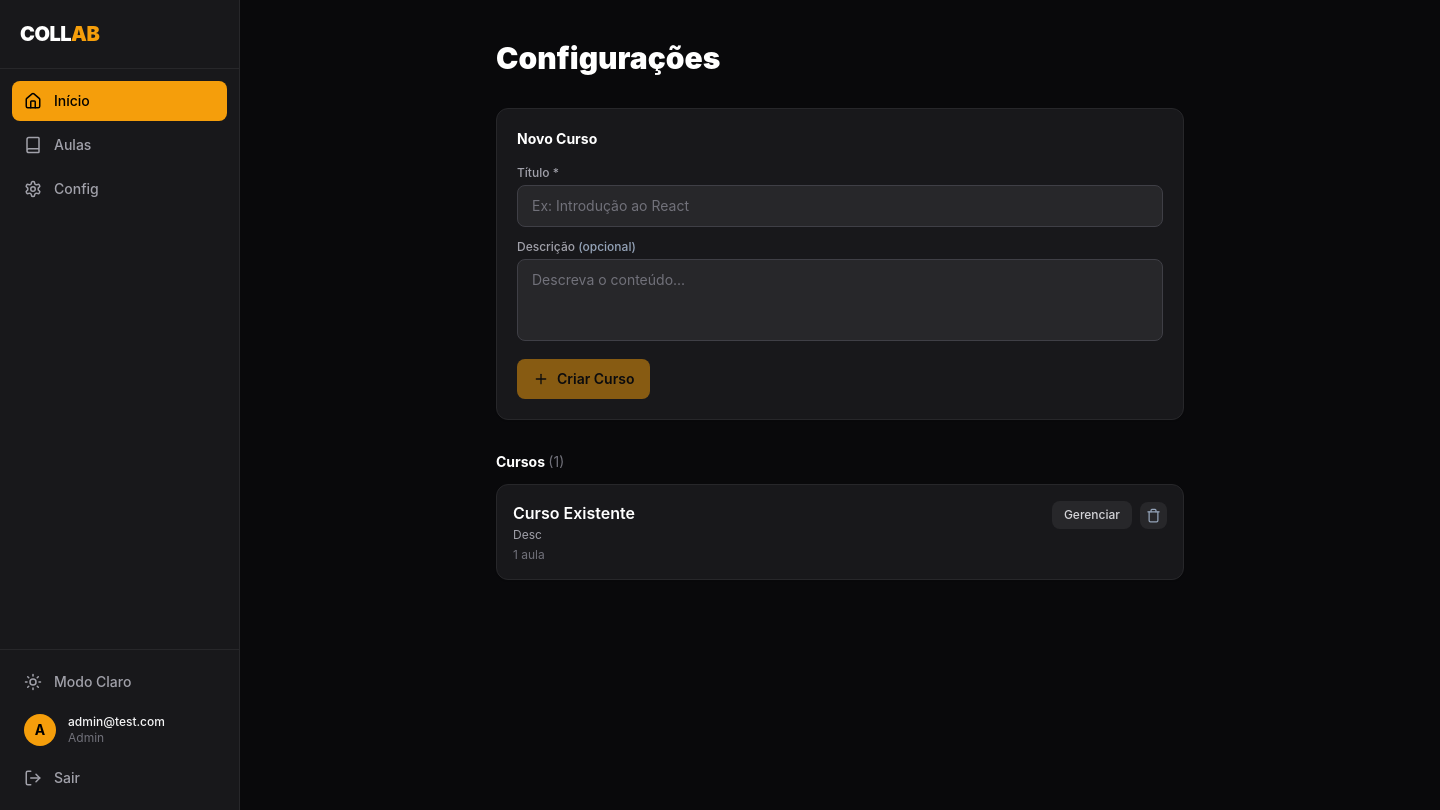
Test case: ConfigPage › deletes a lesson after confirm
Step 1. Click the button "Gerenciar" → (1092, 515), box x1=1052 y1=501 x2=1132 y2=529
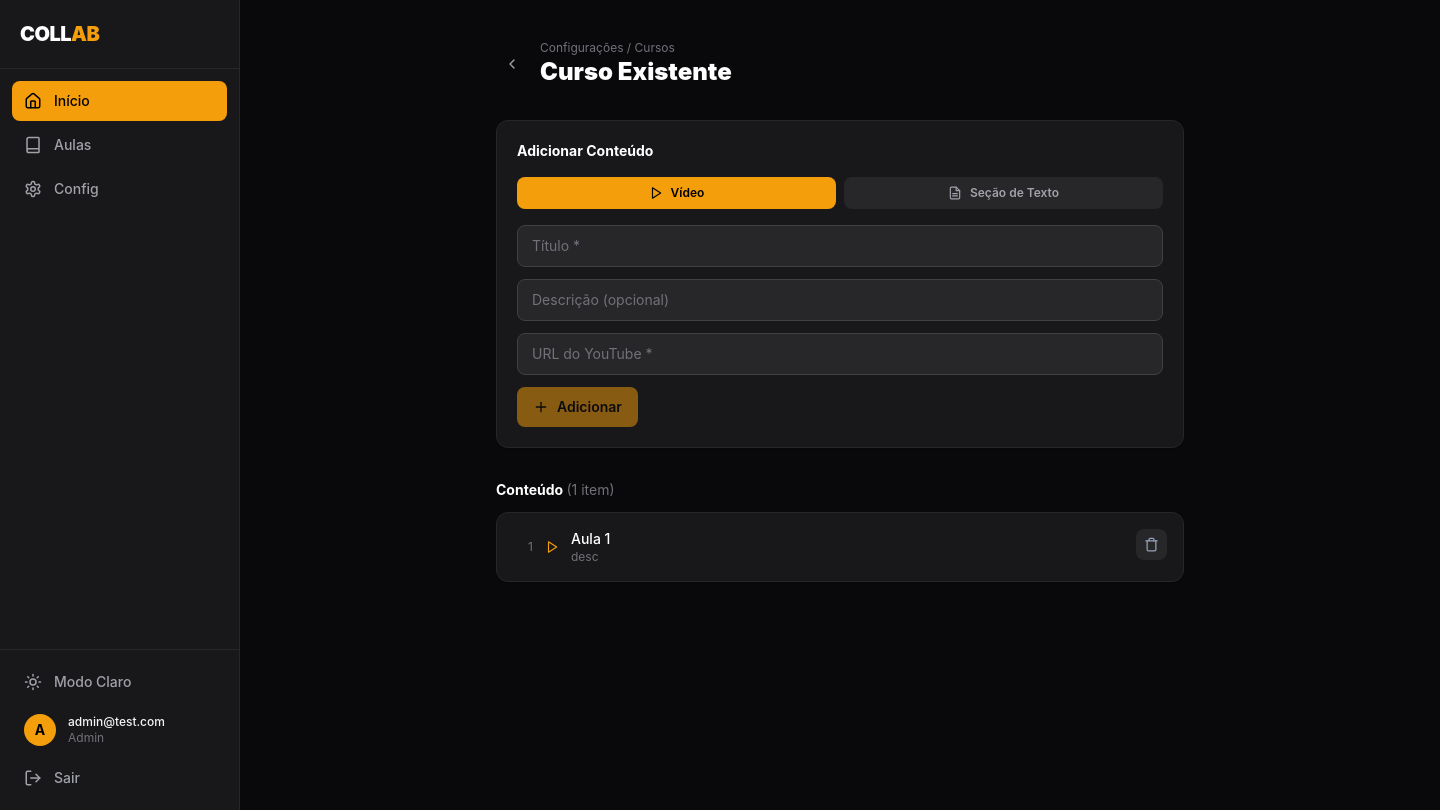
Now the text "Aula 1" is shown, box x1=571 y1=529 x2=610 y2=549
Step 2. Click the button with test id "delete-lesson-l1" → (1152, 544), box x1=1136 y1=529 x2=1167 y2=560
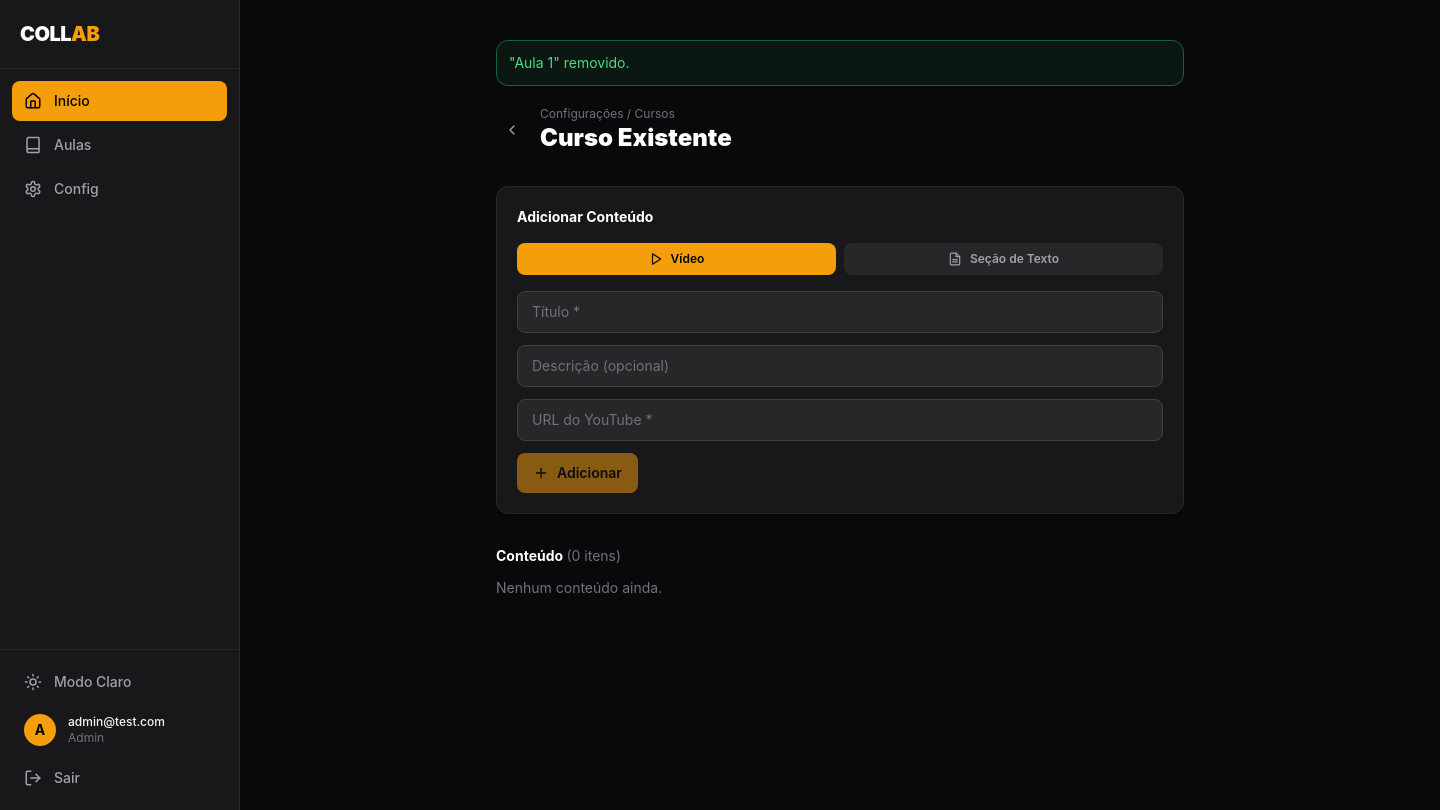
Now the text "\"Aula 1\" removido." is shown, box x1=496 y1=40 x2=1184 y2=86
